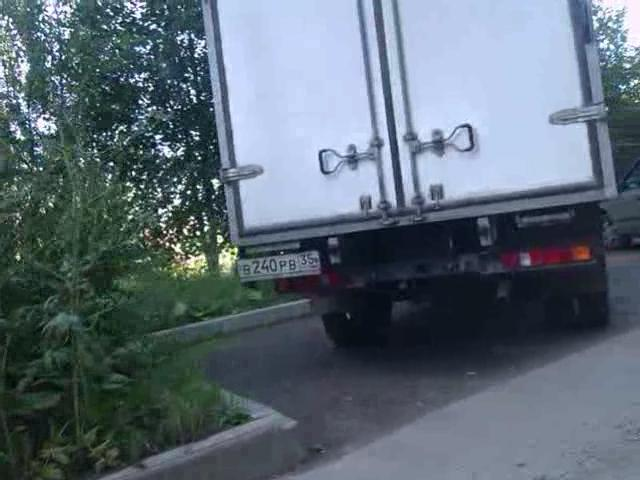car license plate: (237, 248, 321, 285)
